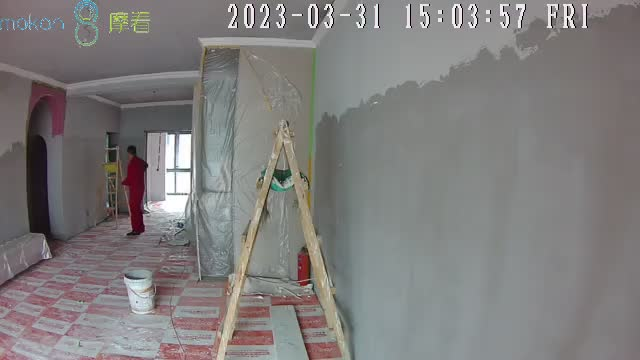people: (122, 145, 148, 235)
window: (165, 132, 194, 196)
